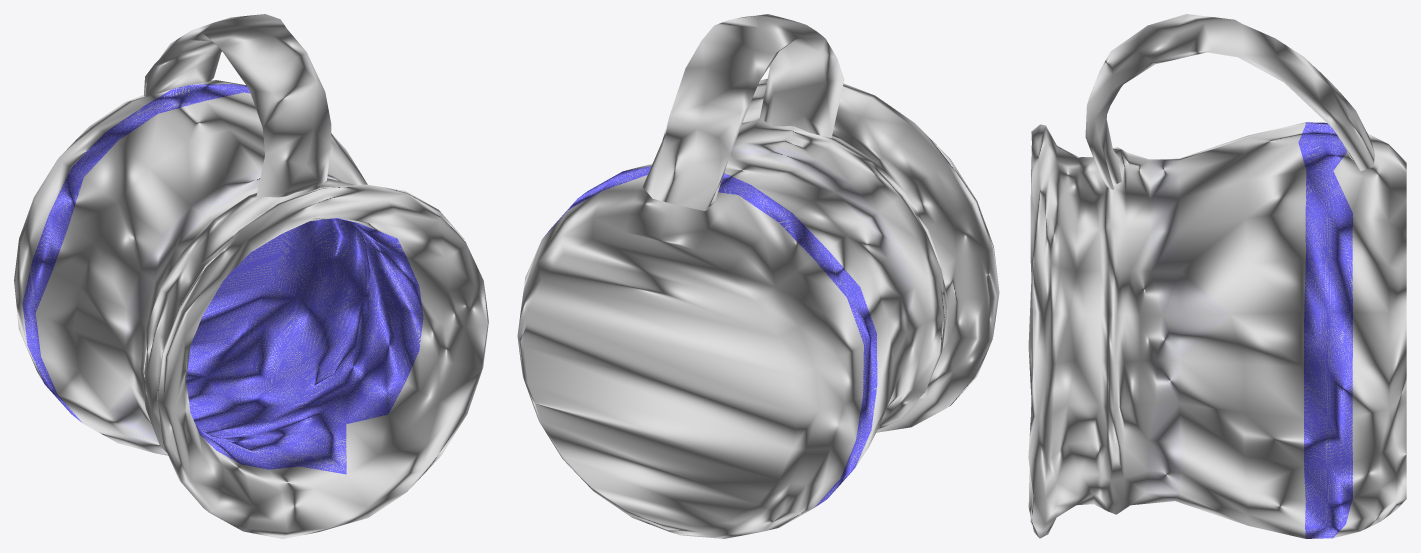
The model's file is model_align.obj.
3 renders of one model, left to right at view 1: azimuth 30°, elevation 25°; view 2: azimuth 150°, elevation 25°; view 3: azimuth 270°, elevation 25°, orthographic. The views are drawn at different scales.
Bounding box in the file's own units: 0.0955 × 0.1246 × 0.0864.
